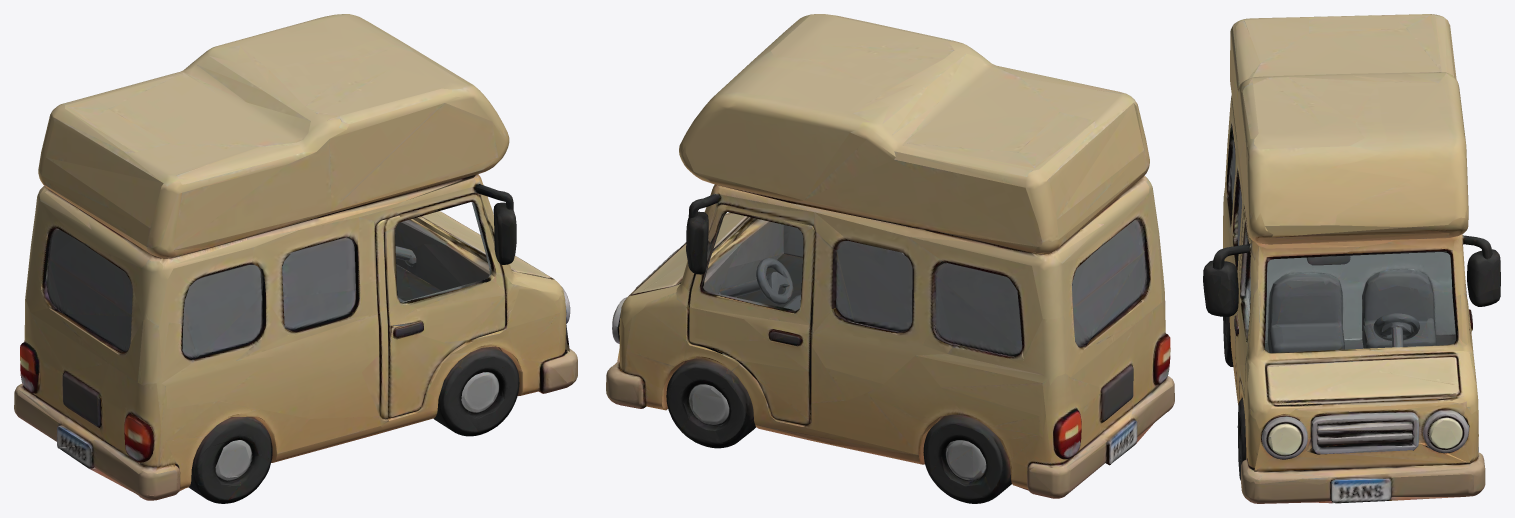
Rendered from campervan_meshopt.glb.
3 views of the same model, side by side, from view 1: azimuth 30°, elevation 25°; view 2: azimuth 150°, elevation 25°; view 3: azimuth 270°, elevation 25° (orthographic). The views are drawn at different scales.
Visible parts, largest first — view 1: output_unwrapped; view 2: output_unwrapped; view 3: output_unwrapped.
Boxes of the visible parts, bbox=[...] form: output_unwrapped: bbox=[14, 14, 577, 503]; output_unwrapped: bbox=[606, 14, 1174, 503]; output_unwrapped: bbox=[1203, 14, 1500, 503].
Size of the model in its own units: 2 by 1.45 by 1.17.
1 material, 1 textured.
